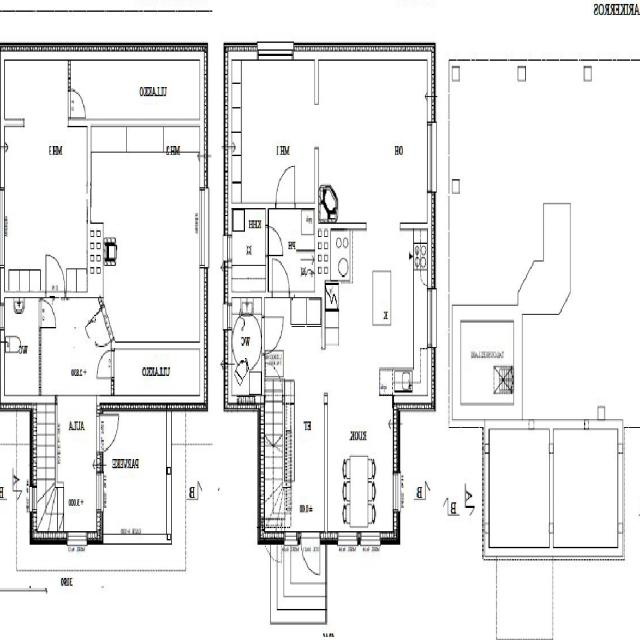door: (85, 303, 114, 357), (301, 531, 320, 582), (97, 415, 122, 451), (46, 254, 65, 298), (276, 166, 295, 209), (262, 317, 283, 354), (272, 258, 290, 297), (266, 226, 284, 256), (97, 350, 115, 378), (39, 300, 56, 328), (68, 89, 85, 116)
